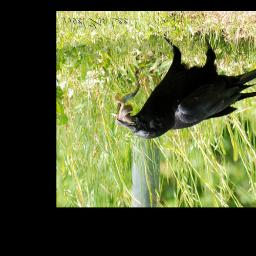Crow: (115, 36, 256, 139)
